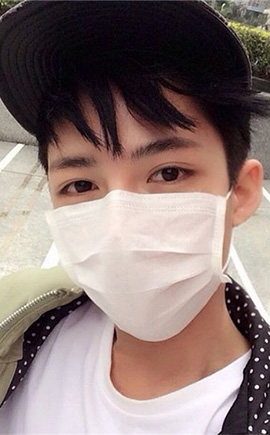face_mask: (49, 66, 224, 343)
